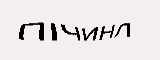І: (50, 22, 58, 42)
И: (82, 26, 98, 42)
Л: (113, 21, 132, 39)
Н: (99, 24, 114, 41)
П: (18, 22, 45, 43)
Ч: (60, 23, 81, 42)
